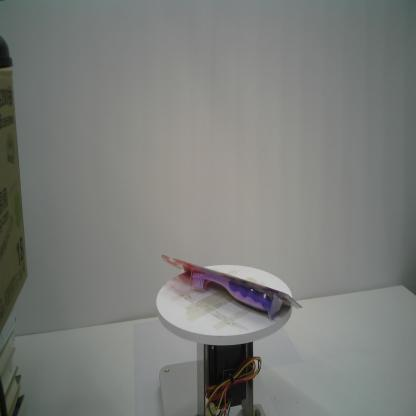Personal Hygiene: (161, 254, 303, 321)
